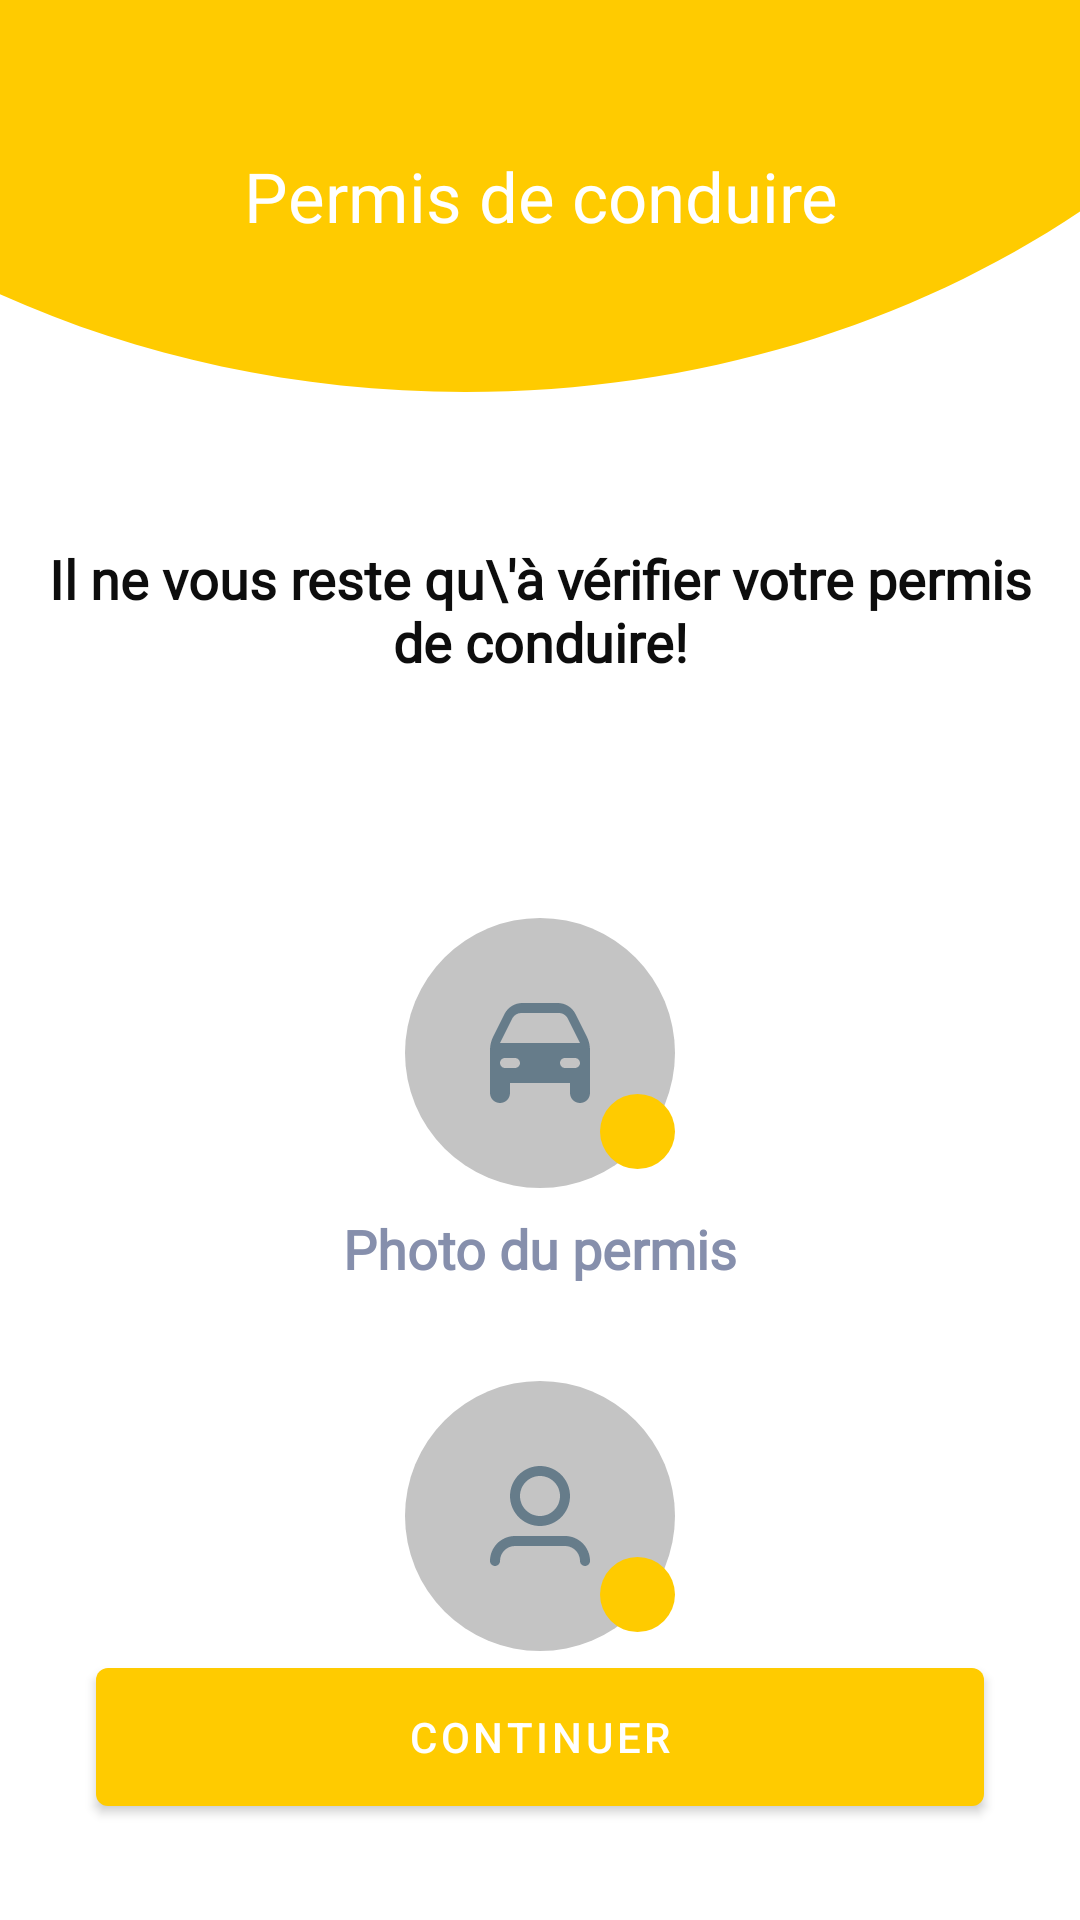

Named icons in this screenshot (1080px×1920px) and their bounding boxes, (x1, y1, x2, y2):
auto validation: (490, 1003, 590, 1103)
user selfie validation: (490, 1466, 590, 1566)
